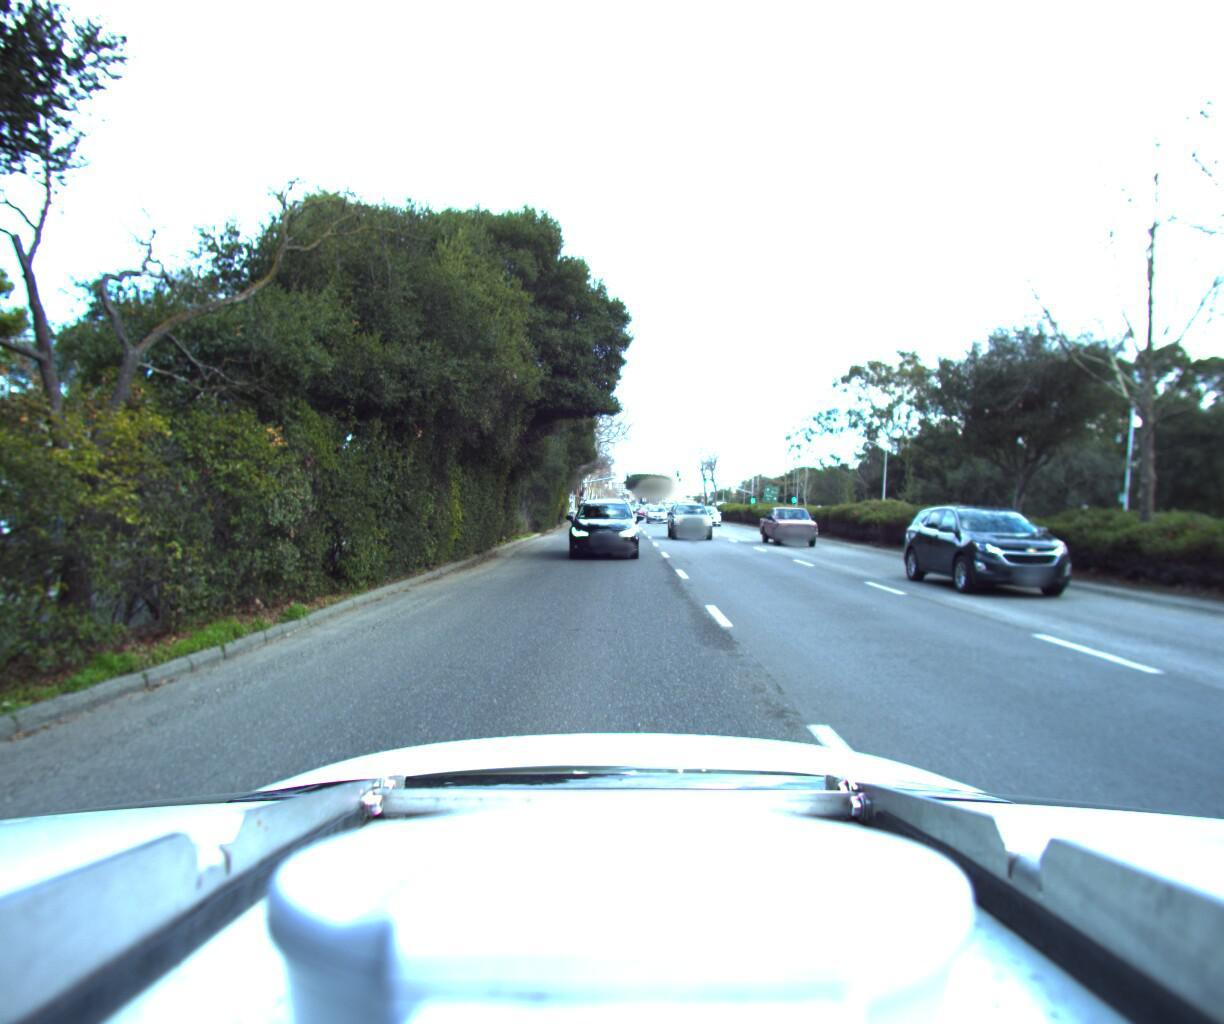car: (915, 496, 1138, 606), (564, 486, 639, 556), (761, 497, 834, 543), (667, 492, 717, 536), (696, 499, 726, 521), (644, 497, 671, 519), (1223, 501, 1224, 600)
